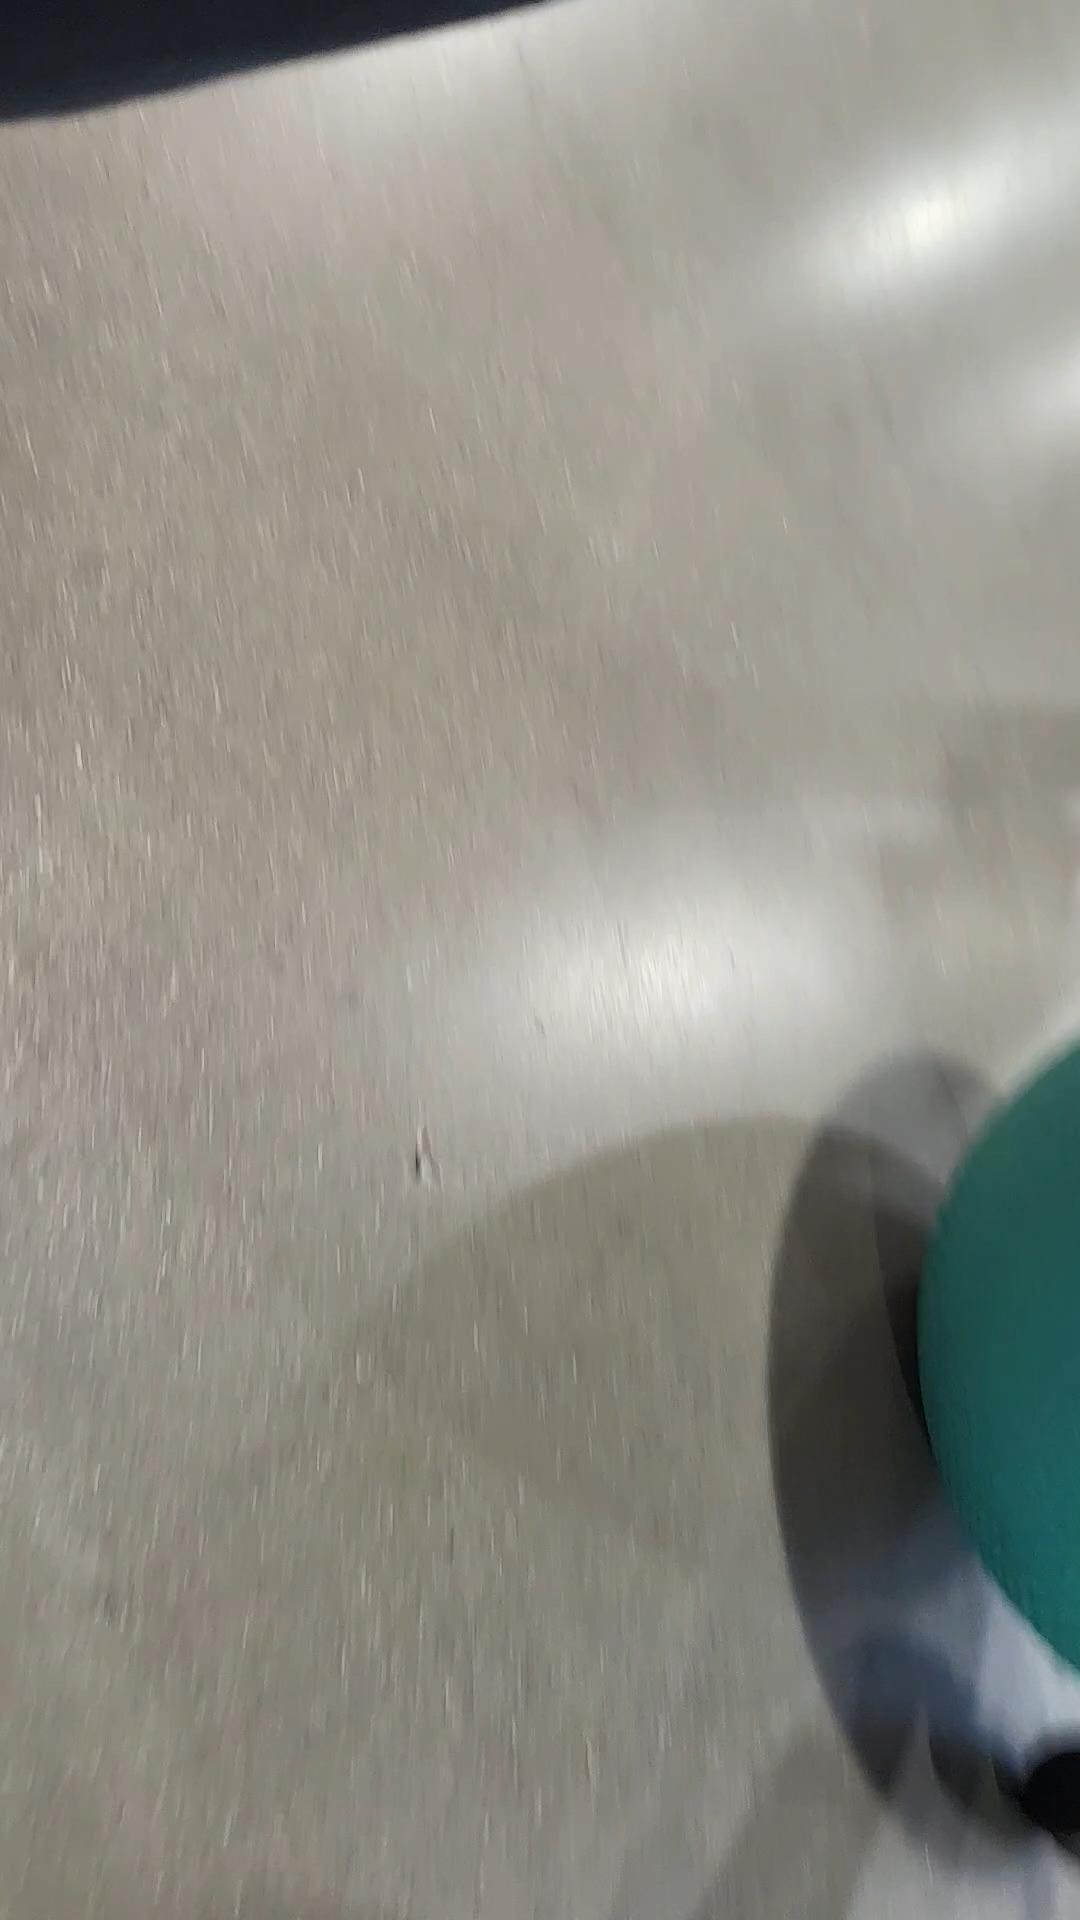algae: (927, 1027, 1080, 1698)
